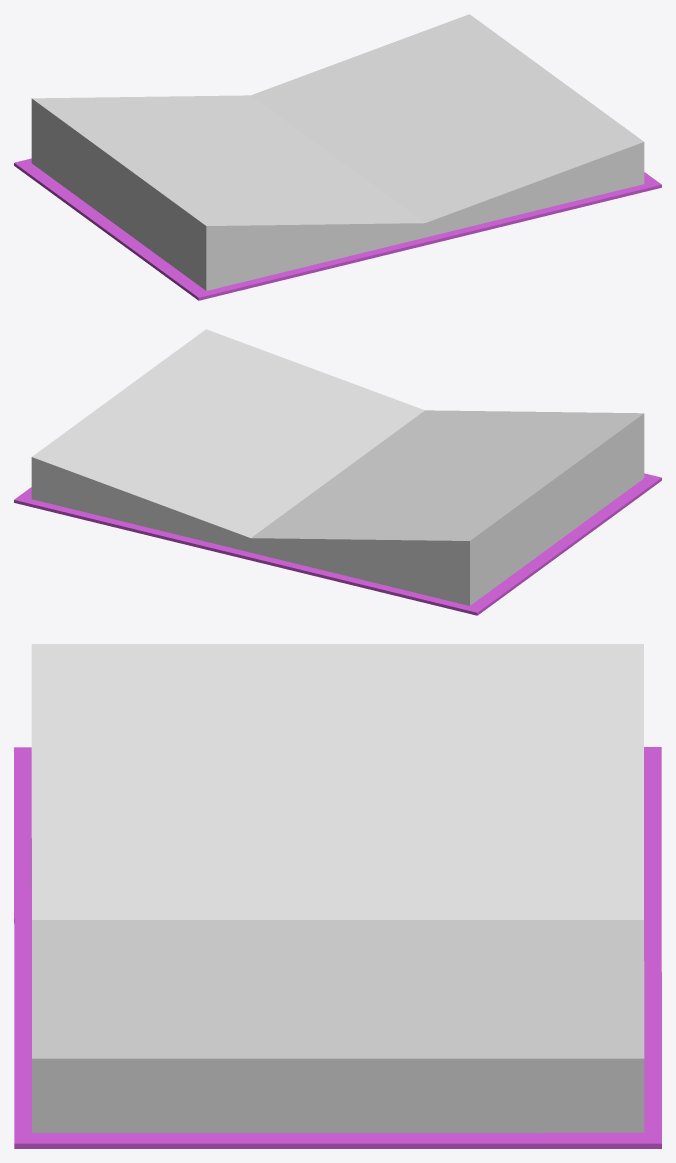
File: book_openned.fbx
The picture shows the model from 3 angles, top to bottom: view 1: azimuth 30°, elevation 25°; view 2: azimuth 150°, elevation 25°; view 3: azimuth 270°, elevation 25°; orthographic projection. The views are drawn at different scales.
Parts seen in each view (by area): view 1: book_openned; view 2: book_openned; view 3: book_openned.
Boxes of the visible parts, x1=… form: book_openned: x1=14, y1=14, x2=661, y2=300; book_openned: x1=14, y1=329, x2=661, y2=615; book_openned: x1=14, y1=644, x2=661, y2=1148.
Bounding box in the file's own units: 0.3857 × 0.0541 × 0.2663.
